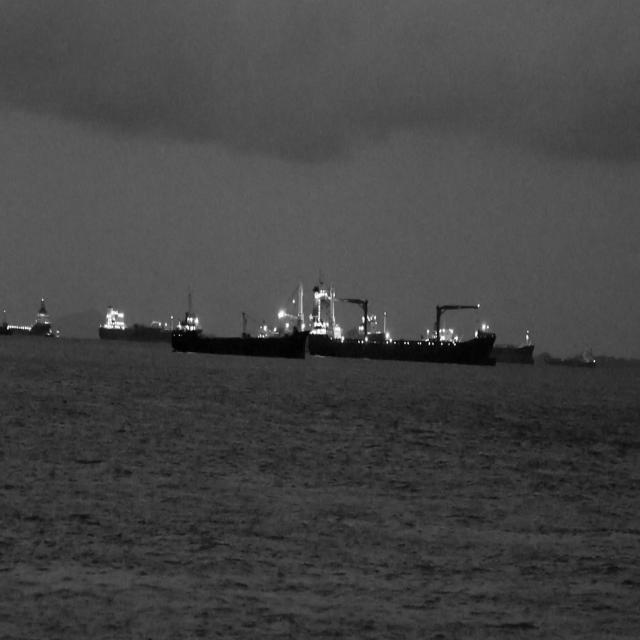ship: (306, 280, 496, 364), (170, 278, 307, 356), (97, 300, 170, 340), (1, 292, 51, 336), (492, 325, 534, 364), (542, 341, 598, 368), (44, 326, 56, 341)
